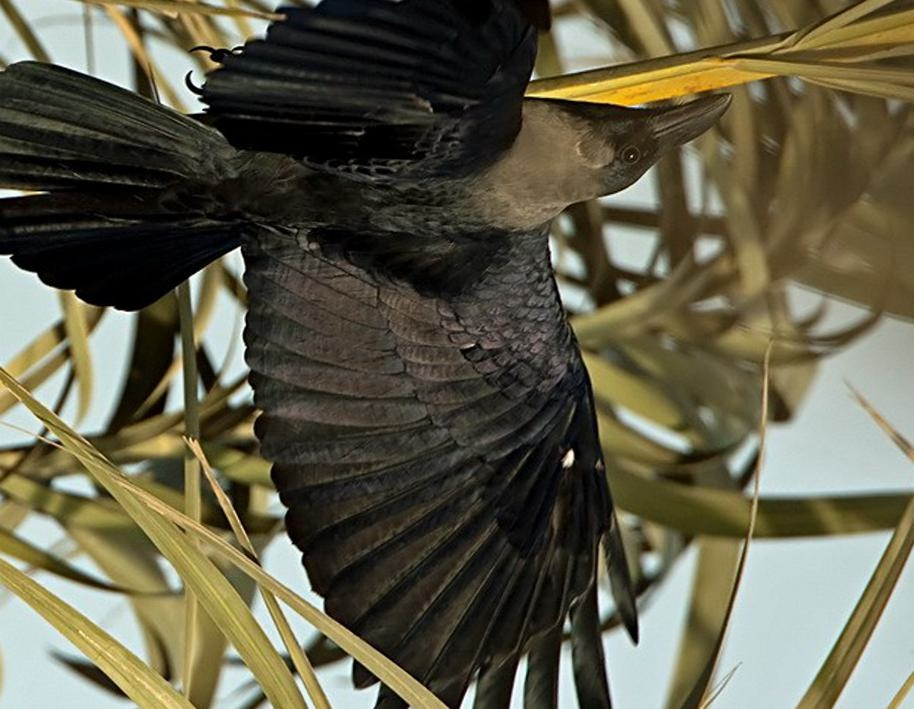crow: (1, 13, 756, 624)
